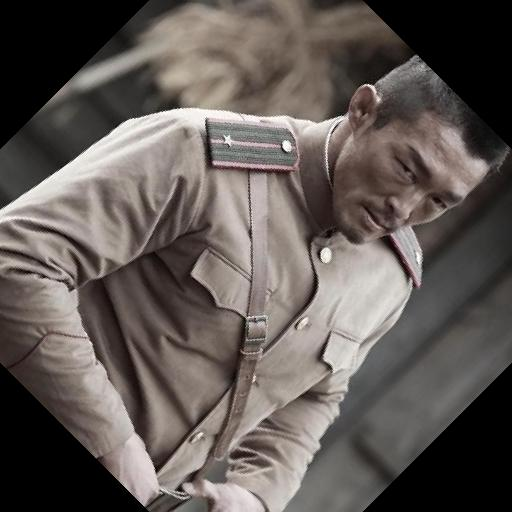north army: (5, 34, 512, 512)
